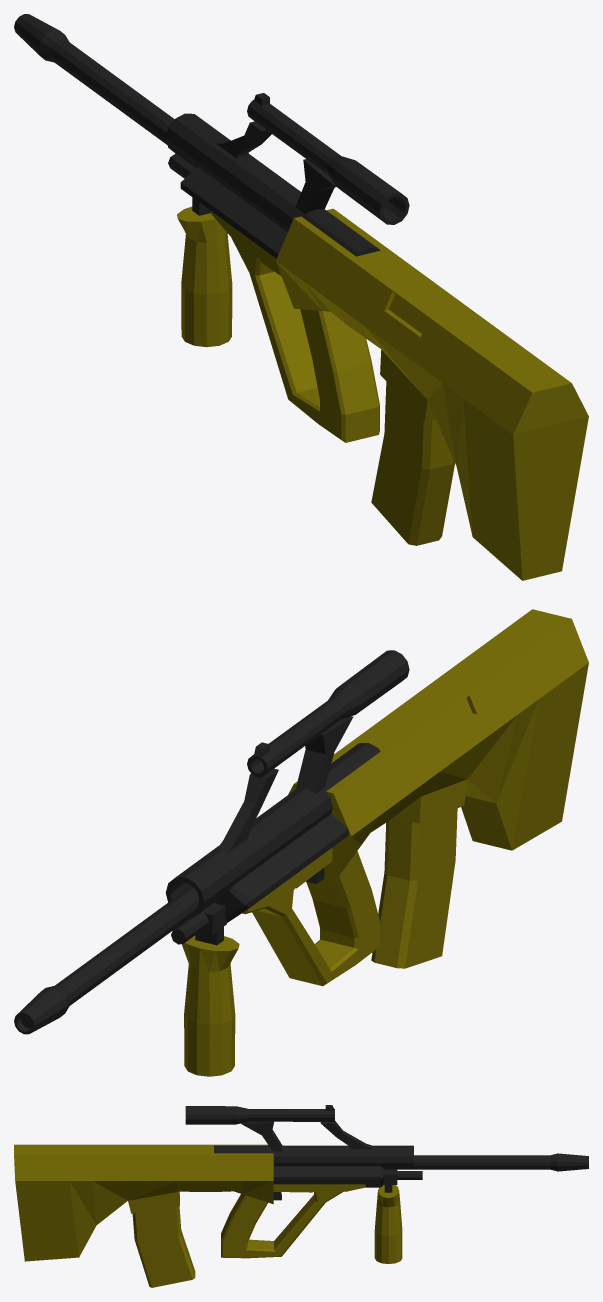
File: gun_rifle_03.glb
The picture shows the model from 3 angles, top to bottom: view 1: azimuth 30°, elevation 25°; view 2: azimuth 150°, elevation 25°; view 3: azimuth 270°, elevation 25°; orthographic projection. The views are drawn at different scales.
Parts seen in each view (by area): view 1: rifle_03; view 2: rifle_03; view 3: rifle_03.
Boxes of the visible parts, x1,y1,x2,y2 form: rifle_03: (14,14,588,580); rifle_03: (14,609,588,1076); rifle_03: (14,1105,588,1287).
Size of the model in its own units: 0.0713 by 0.2934 by 0.86.
